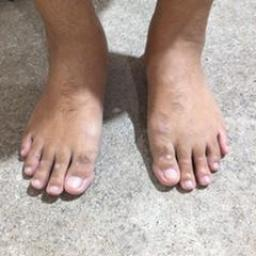Dorsal View -Both Feet-: (12, 10, 238, 213)
